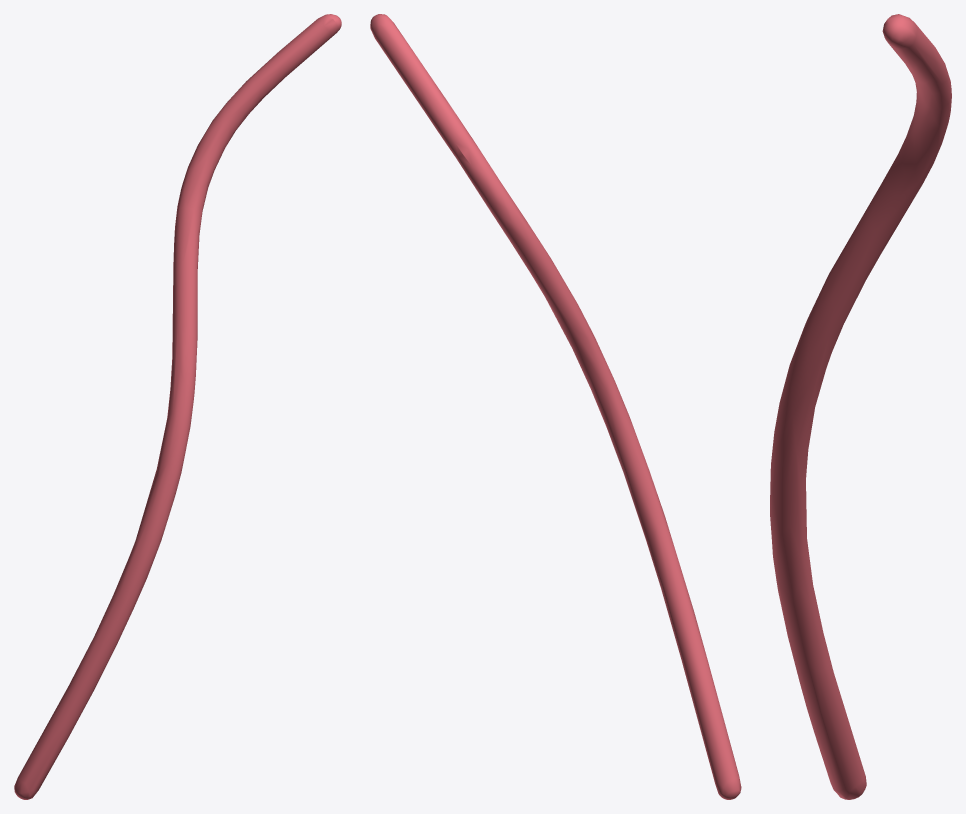
Rendered from fma22777_fj2342.glb.
3 views of the same model, side by side, from view 1: azimuth 30°, elevation 25°; view 2: azimuth 150°, elevation 25°; view 3: azimuth 270°, elevation 25° (orthographic). The views are drawn at different scales.
Parts seen in each view (by area): view 1: FMA22777_FJ2342; view 2: FMA22777_FJ2342; view 3: FMA22777_FJ2342.
Boxes of the visible parts, bbox=[...] form: FMA22777_FJ2342: bbox=[14, 14, 341, 799]; FMA22777_FJ2342: bbox=[370, 14, 741, 799]; FMA22777_FJ2342: bbox=[770, 14, 951, 799].
Size of the model in its own units: 0.0236 by 0.0458 by 0.00749.
